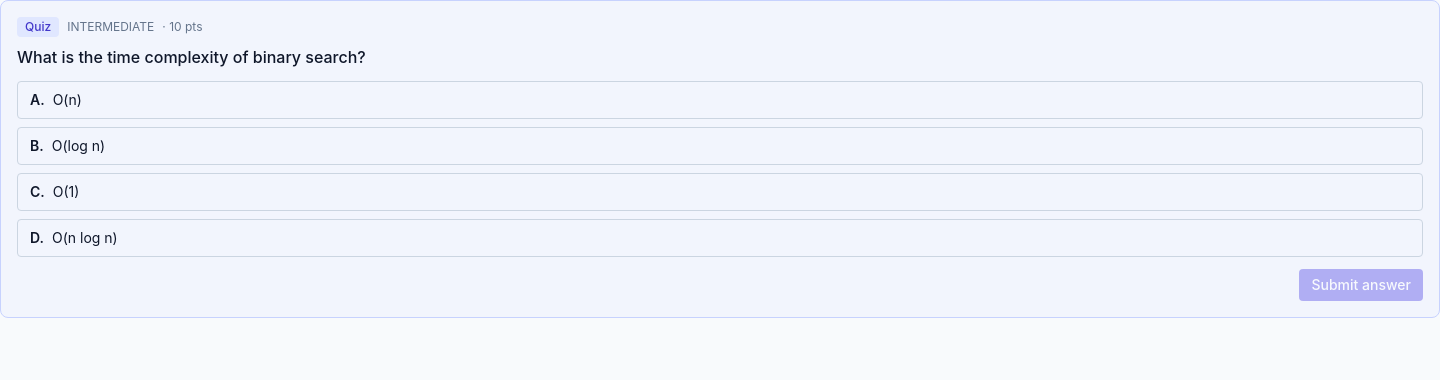
Test case: submitting an answer › reports a correct answer and its explanation
The width and height of the screenshot is (1440, 380).
Click the button "B.O(log n)".
click(78, 146)  # box x1=17 y1=127 x2=1423 y2=165
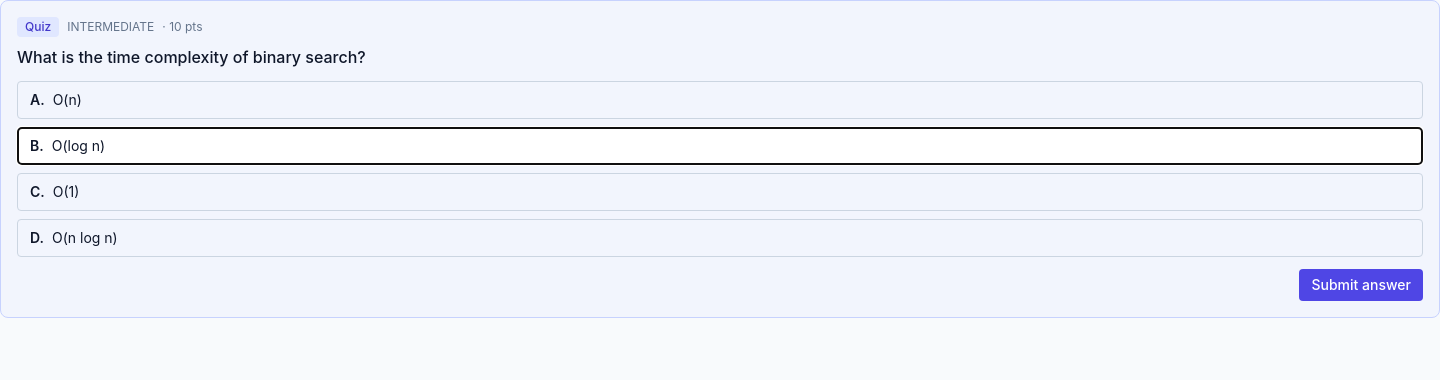
Click the button "Submit answer".
click(1361, 285)  # box x1=1300 y1=269 x2=1423 y2=301
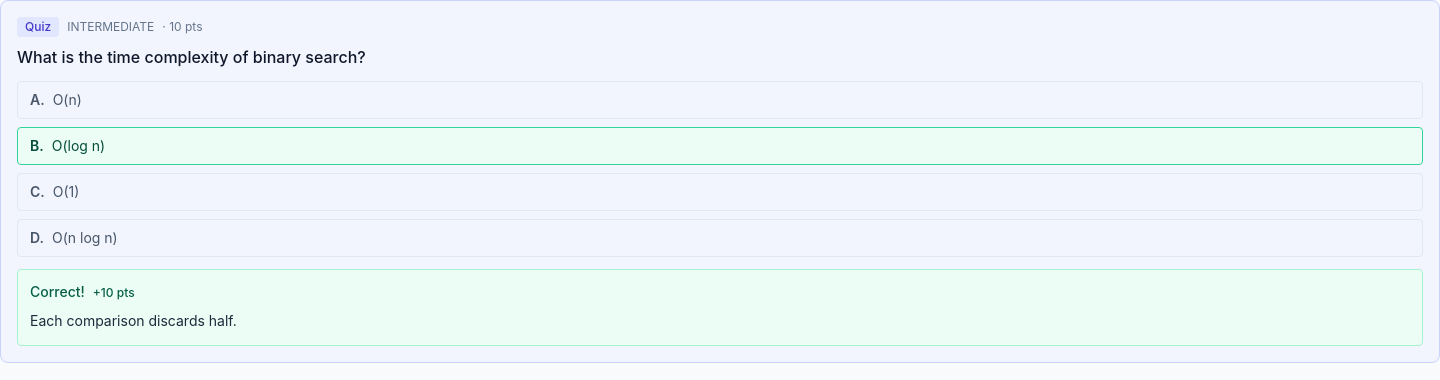
expect the text "Correct!+10 pts" is shown: met, box x1=30 y1=283 x2=135 y2=300
expect the text "+10 pts" is shown: met, box x1=93 y1=285 x2=135 y2=300
expect the text "Each comparison discards half." is shown: met, box x1=30 y1=312 x2=237 y2=329
